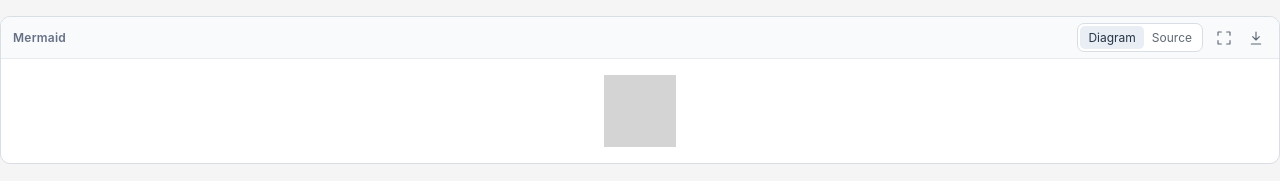
Scenario: DiagramViewer › renders sanitized SVG as an isolated image and exposes source without rerendering
Expected: the text with test id "diagram-format" reads "Mermaid", [13,30,66,44]
Step 1. Click the button with test id "diagram-source-view" → (1172, 38), box [1144,26,1200,49]
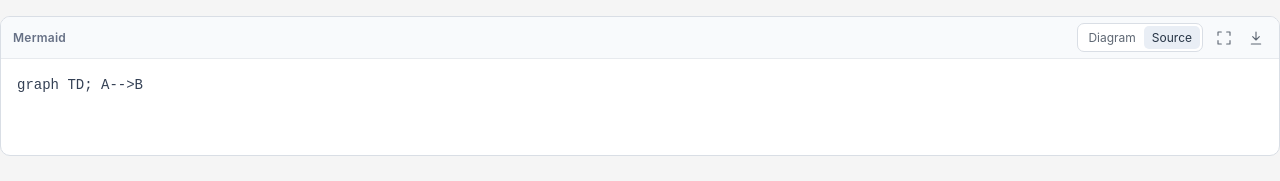
Now the element with test id "diagram-source" reads "graph TD; A-->B", box [17,77,143,93]
